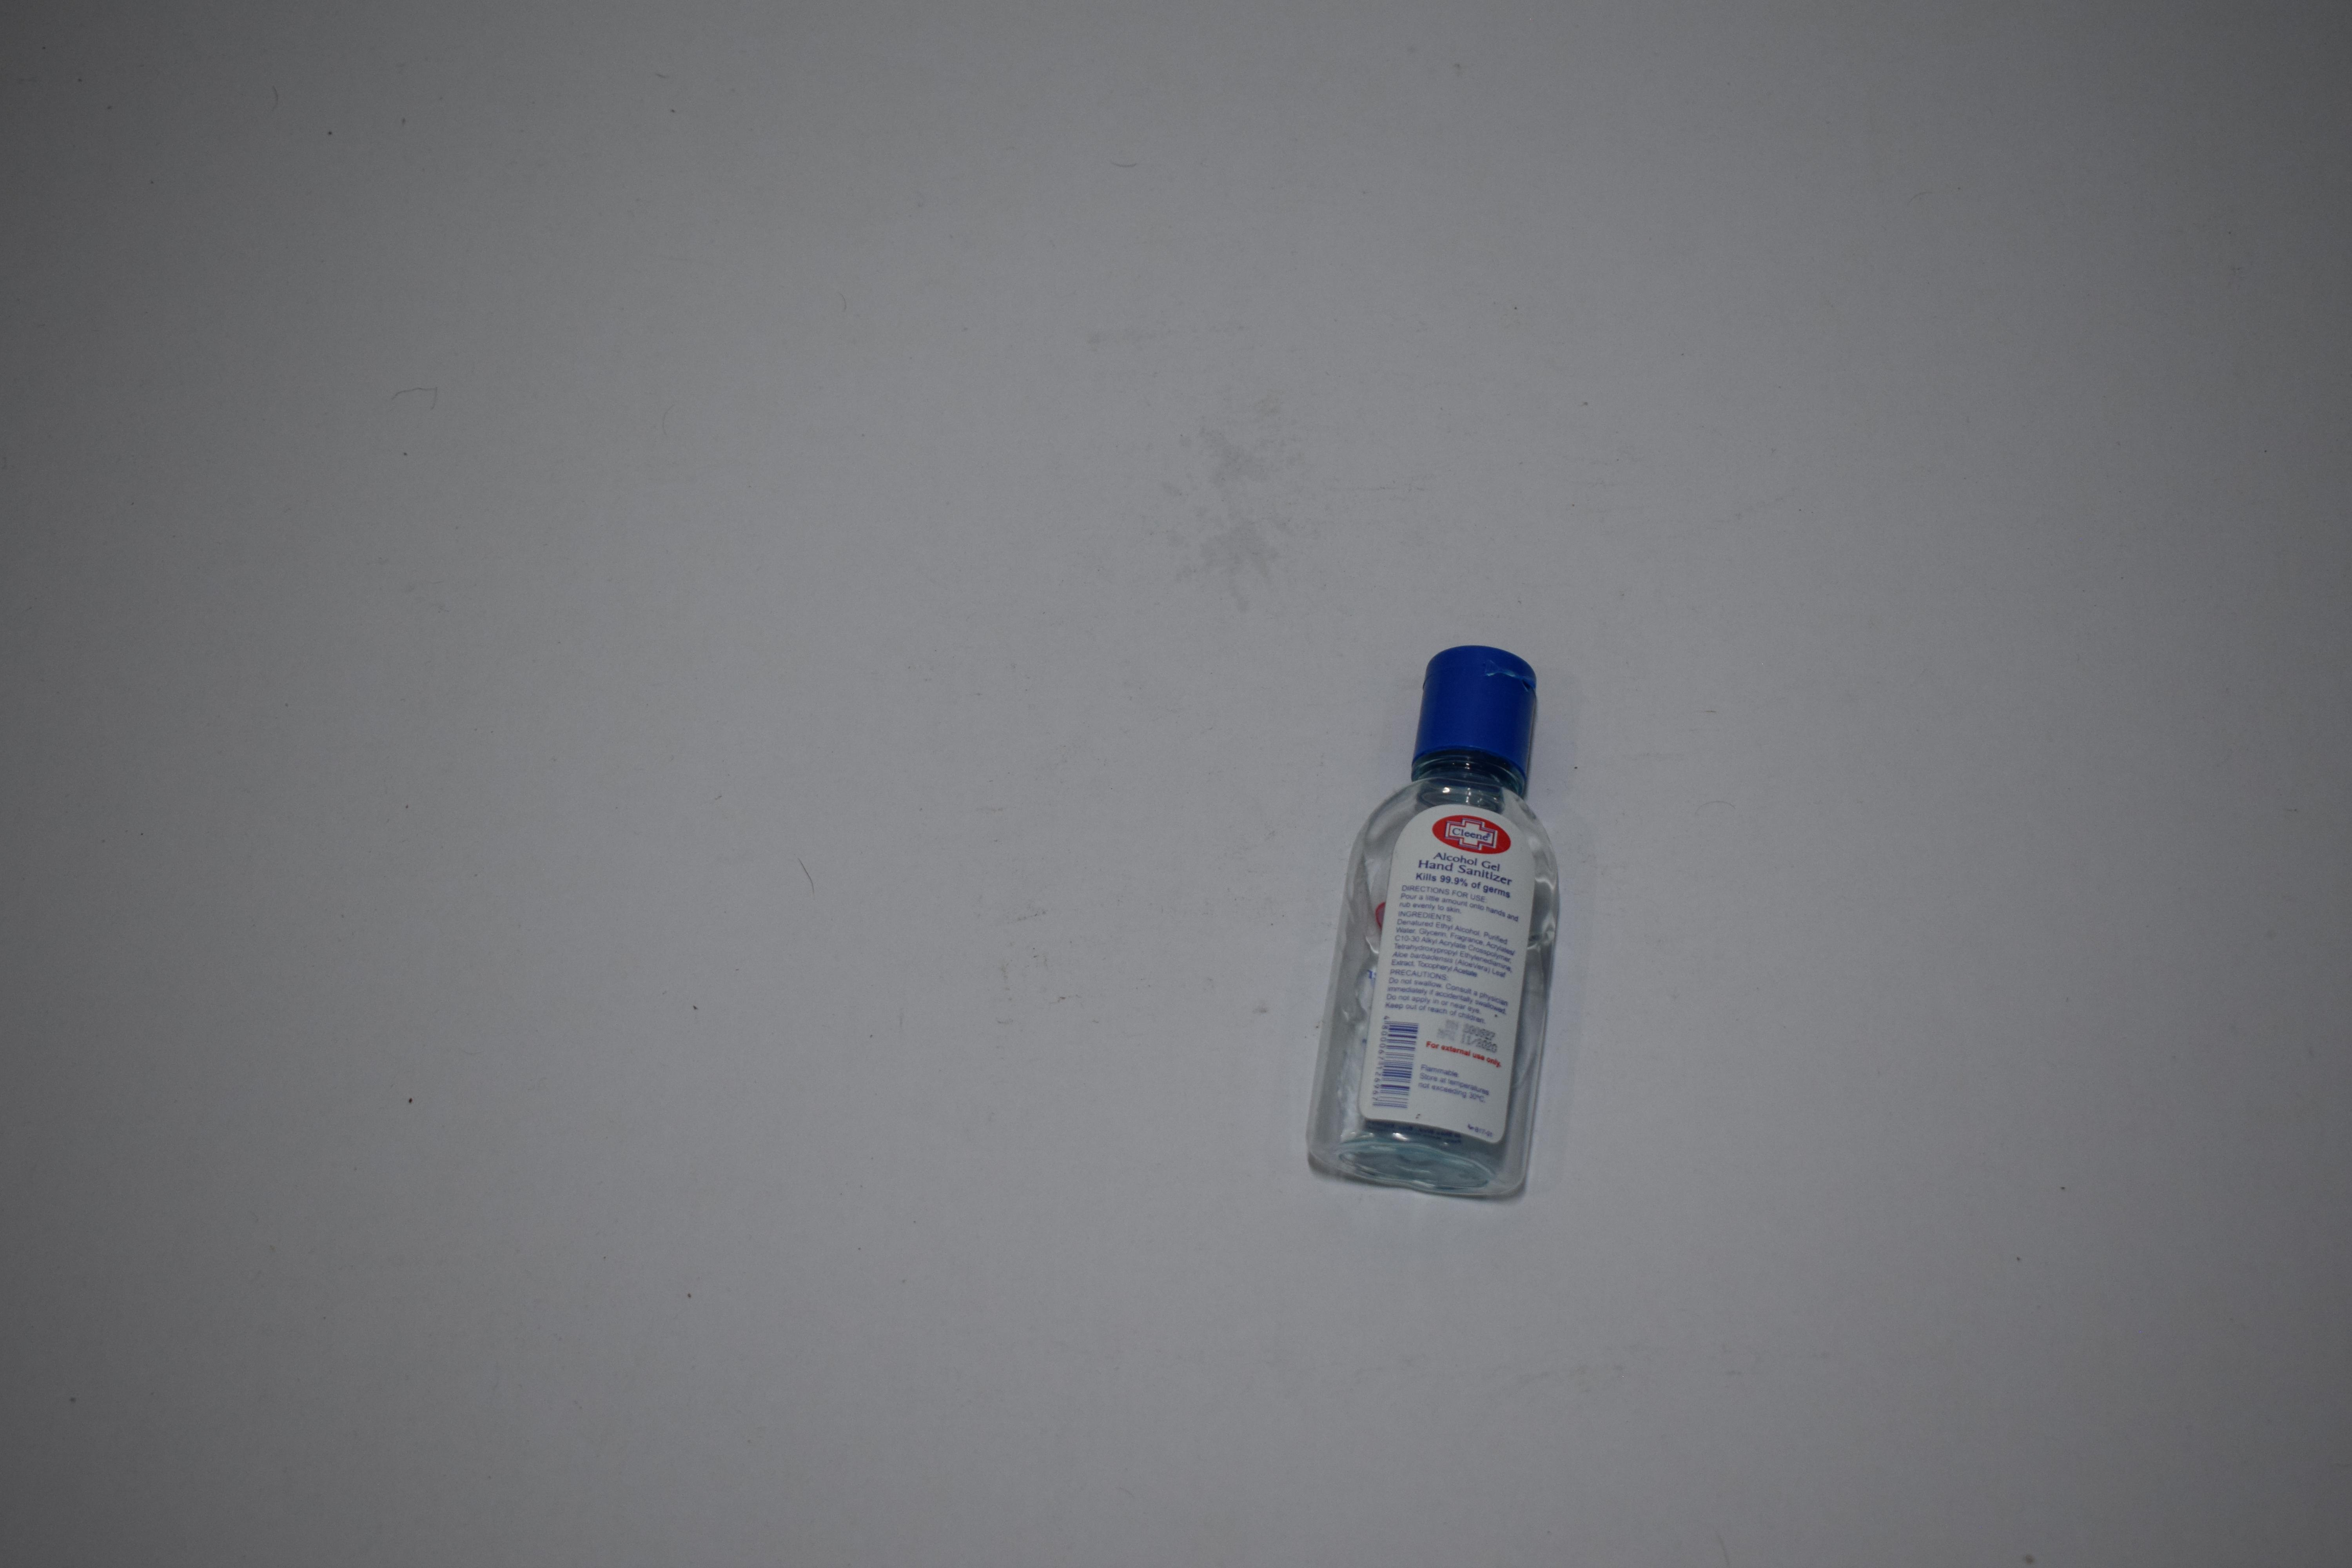bottle: (1304, 0, 1563, 424)
